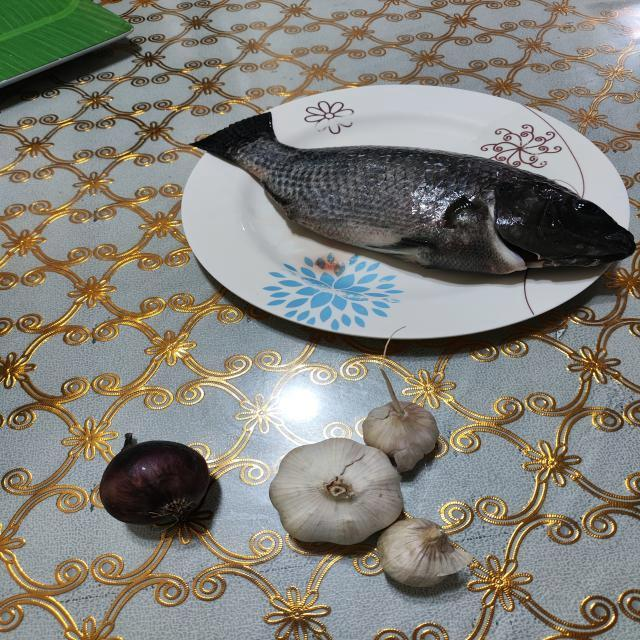fish: (194, 108, 634, 274)
garlic: (269, 396, 476, 594)
onion: (103, 433, 214, 526)
